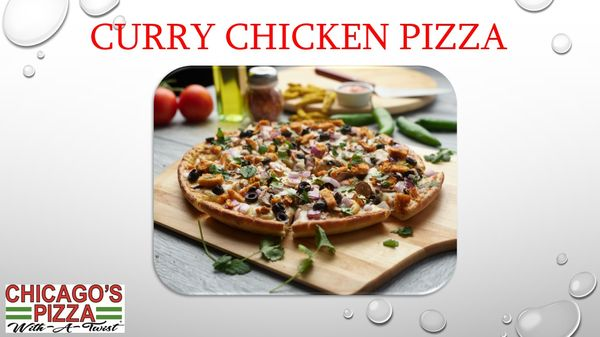sandwich: (177, 117, 446, 234)
